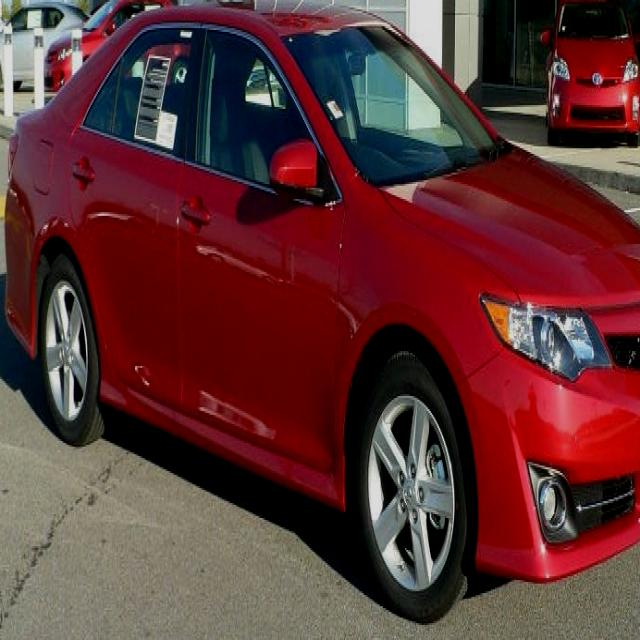red: (0, 18, 640, 616), (544, 5, 638, 140)
